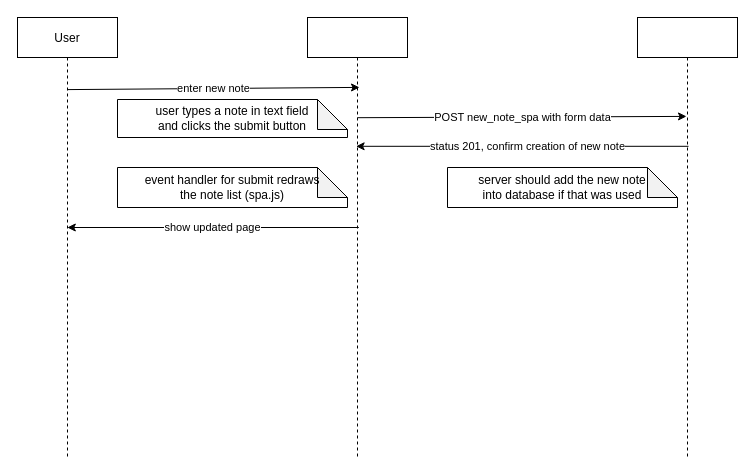
The diagram is 755 pixels wide and 475 high, and some of its shapes have lost their labels. The box of each missing label's shape, as (x1, y1, x2, y2) in pixels:
Browser: (306, 16, 408, 458)
Server: (636, 16, 738, 458)
